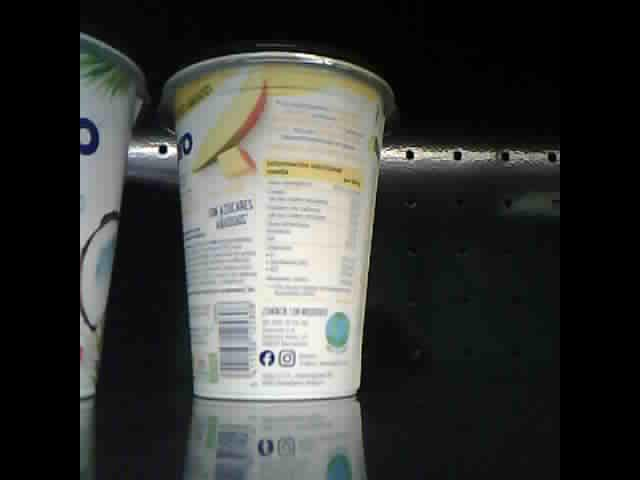alpro: (158, 42, 399, 404), (79, 28, 149, 405)
